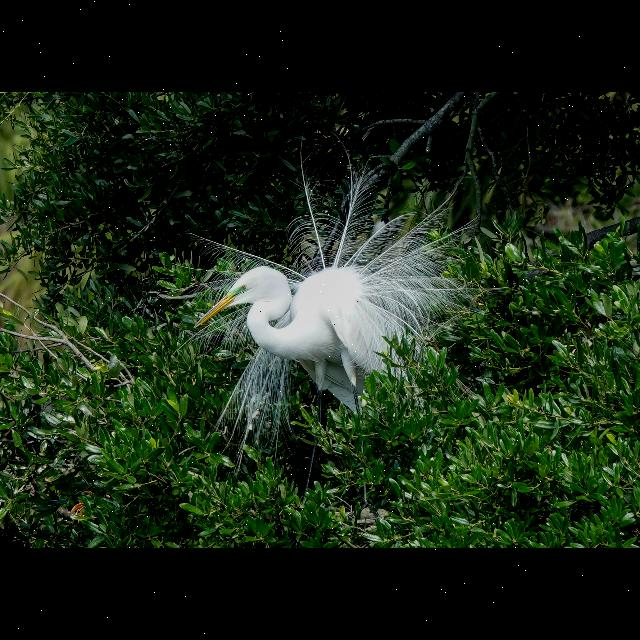egret: (176, 137, 508, 477)
